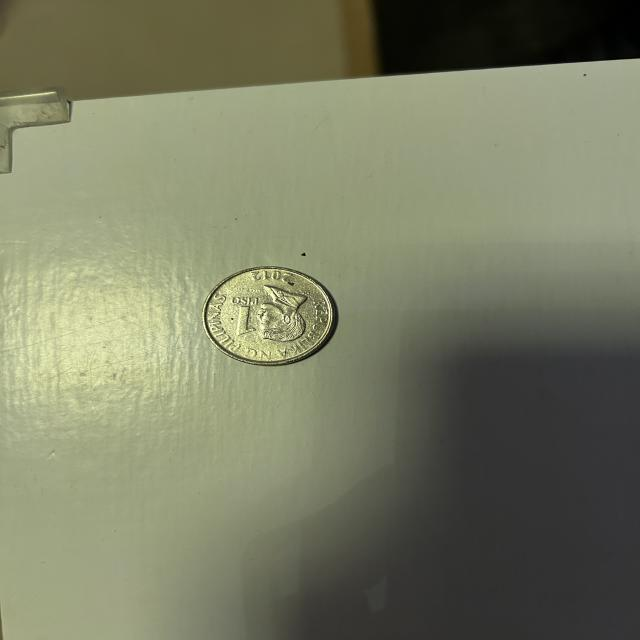1_Old_Front: (227, 295, 261, 338)
